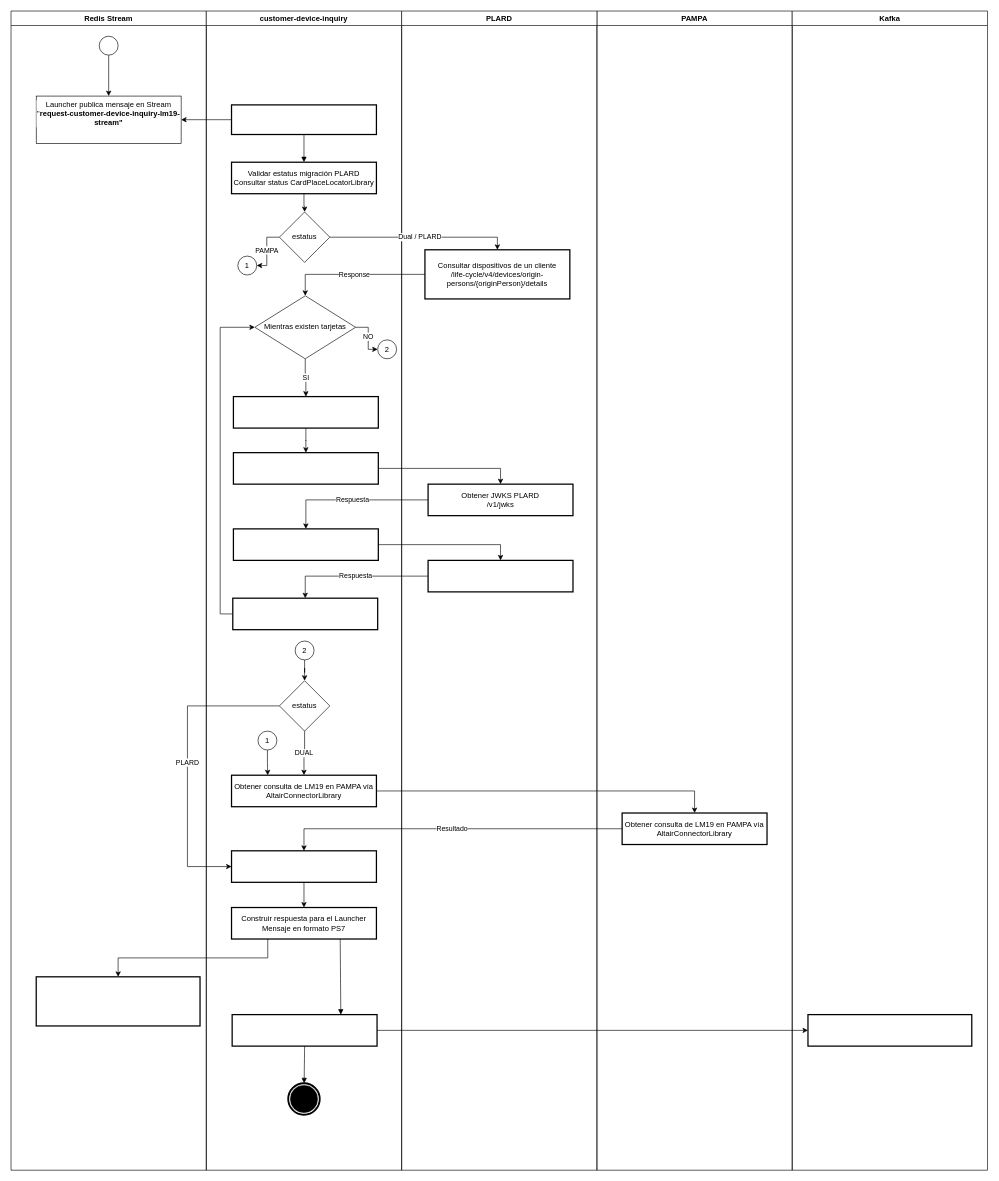
Image size: 999x1181. Some labels were removed from this diagram. The shapes that lost their labels are listed below. From the top down, each one's centre as x and y in pixels, then its label:
the point at 304,119: Recibir mensaje de Redis Stream
the point at 305,412: Obtener el DeviceId asociado a la tarjeta
the point at 305,468: Obtener PAN desde DeviceID
the point at 305,544: Generar Request (JWT + JWE)
the point at 500,575: Obtener PAN /v1/card-data
the point at 305,613: Desencriptar JWE
the point at 304,866: Procesar respuestas para unir valores de PAMPA y PLARD
the point at 117,1001: Publicar mensaje respuesta response-customer-device-inquiry-lm19-stream
the point at 304,1030: Generar pista de auditoría
the point at 889,1030: Publicar pista de auditoría en tópico de Kafka
